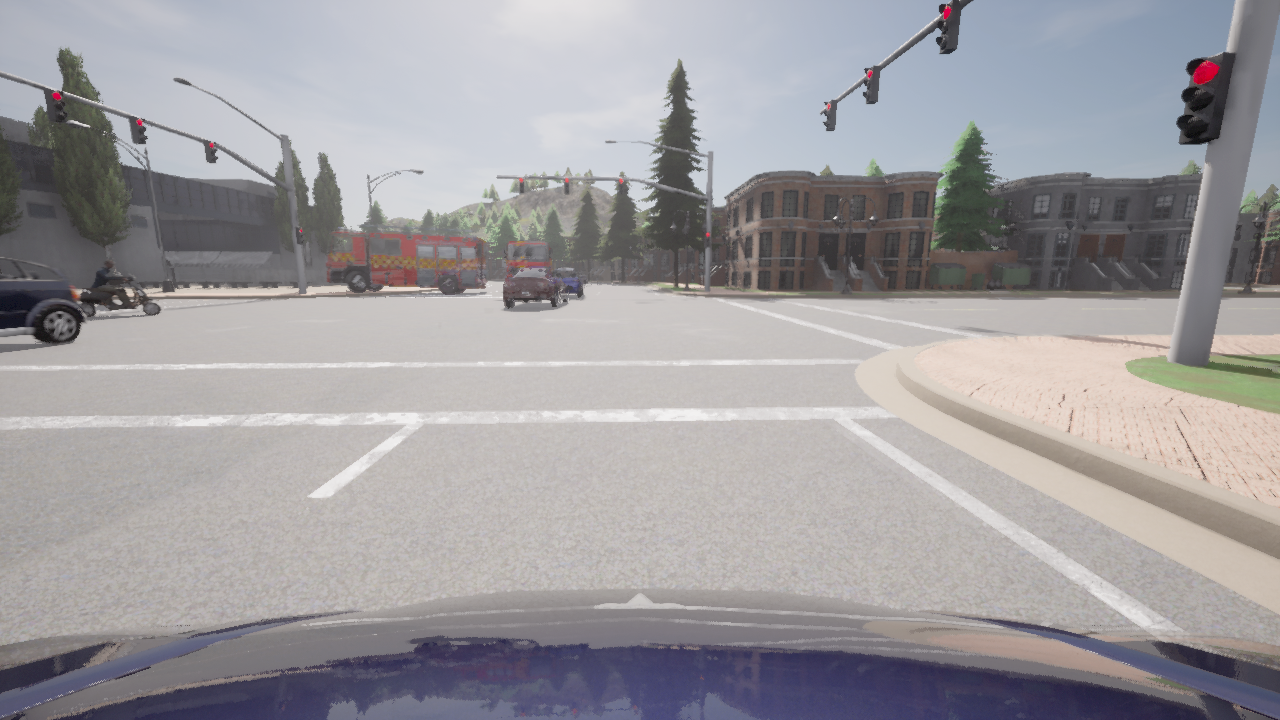cyclist: (0, 588, 1279, 719), (325, 224, 486, 293), (78, 272, 161, 317), (504, 267, 567, 307), (503, 241, 551, 280), (555, 268, 583, 296), (577, 271, 586, 284)
